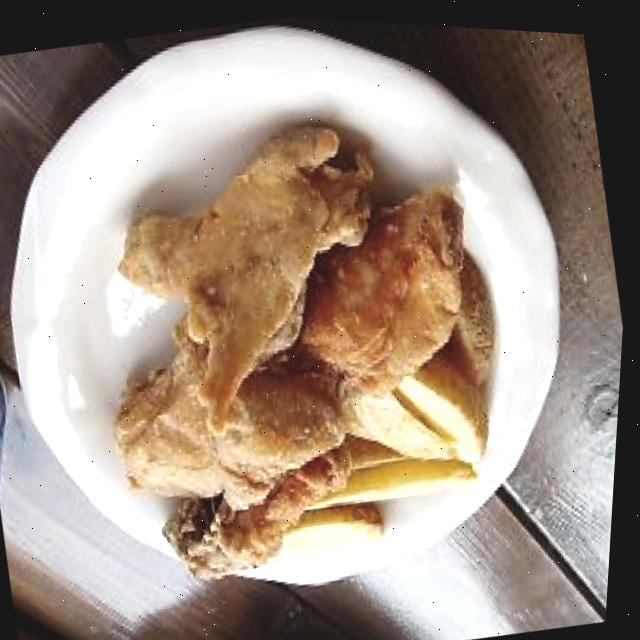炸货点心: (226, 246, 541, 588)
鸡肉料理 含炸鸡: (30, 26, 594, 640)
